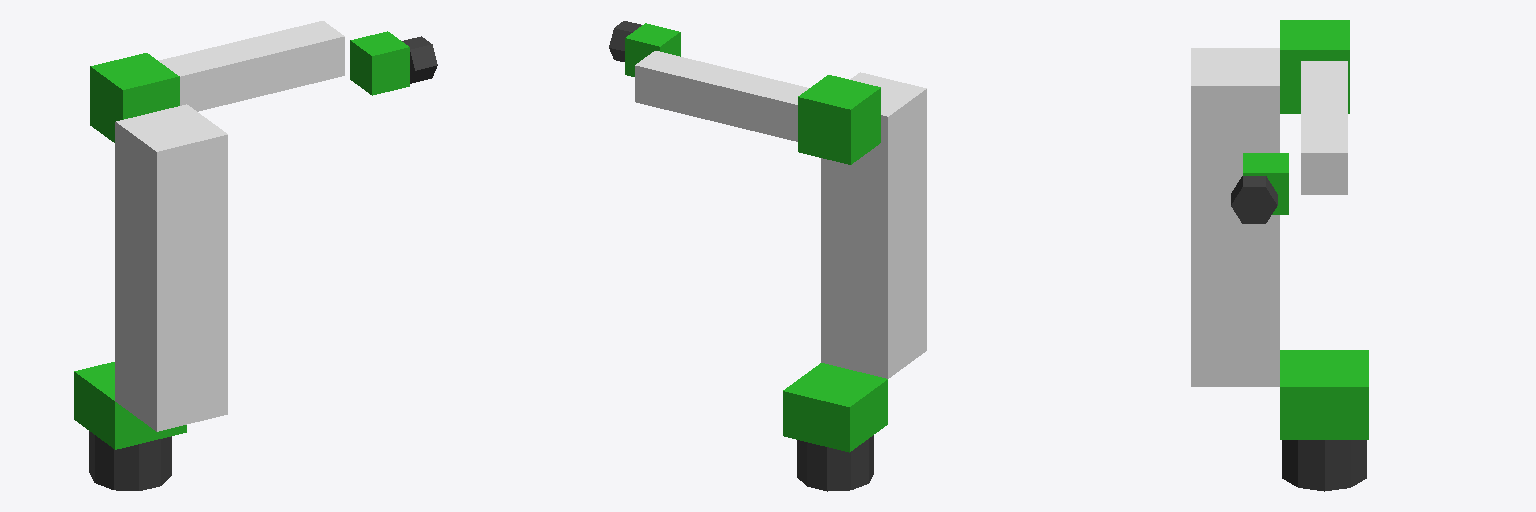
robot.urdf — crx-10:
<?xml version="1.0"?>
<robot name="crx-10">
  <link name="base_link">
    <inertial>
      <origin rpy = "0 0 0" xyz = "0 0 0" />
      <mass value = "0.0001" />
      <inertia ixx = "0.0001" ixy = "0" ixz = "0" iyy = "0.0001" iyz = "0" izz = "0.0001" />
    </inertial>
  </link>

  <joint name="base_stand" type="fixed" >
    <parent link = "base_link" />
    <child link = "stand" />
    <origin rpy = "0 0 0" xyz = "0.000 0.000 0.000" />
  </joint>
  <link name="stand">
    <contact>
      <lateral_friction value = "100" />
    </contact>
    <inertial>
      <origin rpy = "0 0 0" xyz = "0.000 0.000 0.06125" />
        <mass value = "5000" />
        <inertia ixx = "54.5" ixy = "0" ixz = "0" iyy = "54.5" iyz = "0" izz = "76.6" />
    </inertial>
    <visual>
      <origin rpy="0 0 0" xyz="0 0 0.000"/>
      <geometry>
        <!-- <cylinder radius="0.095" length="0.1225"/> -->
        <mesh filename="package://crx10_description/mesh/stl/stand.stl"/>
      </geometry>      
      <material name="Black">
        <color rgba="0.3 0.3 0.3 1" />
      </material>
    </visual>
    <collision>
      <origin rpy = "0 0 0" xyz = "0.000 0.000 0.000" />
      <geometry>
        <!-- <cylinder radius="0.095" length="0.1225"/> -->
        <mesh filename="package://crx10_description/mesh/stl/stand.stl"/>
      </geometry>
    </collision>
  </link>

  <joint name="stand_arm1" type="revolute" >
    <parent link = "stand" />
    <child link = "arm1" />
    <origin rpt = "0 0 0" xyz = "0 0 0.1225" />
    <axis xyz = "0 0 1" />
    <limit effort="10000.0" lower="-3.315" upper="3.315" velocity="2.09"/>
  </joint>
  <link name="arm1">
    <inertial>
      <origin rpy = "0 0 0" xyz = "0.000 0.000 0.06125" />
        <mass value = "7.5" />
        <inertia ixx = "0.066441" ixy = "0" ixz = "0" iyy = "0.075957" iyz = "0" izz = "0.059516" />
    </inertial>
    <visual>
      <origin rpy="0 0 0" xyz="0 0.000 0.000"/>
      <geometry>
        <!-- <box size="0.190 0.190 0.1225"/> -->
        <mesh filename="package://crx10_description/mesh/stl/arm1.stl"/>
      </geometry>
      <material name="Green">
        <color rgba="0.2 0.8 0.2 1" />
      </material>
    </visual>
    <collision>
      <origin rpy = "0 0 0" xyz = "0.000 0.000 0.000" />
      <geometry>
        <!-- <box size = "0.190 0.190 0.1225" /> -->
        <mesh filename="package://crx10_description/mesh/stl/arm1.stl"/>
      </geometry>
    </collision>
  </link>

  <joint name="arm1_arm2" type="revolute" >
    <parent link = "arm1" />
    <child link = "arm2" />
    <!-- <origin rpy = "-1.57075 0 -1.57075" xyz = "0.000 -0.190 0.000" /> -->
    <origin rpy = "0 -1.5707963267948966 -1.5707963267948966" xyz = "0.000 -0.095 0.1225" />
    <axis xyz = "0 0 1" />
    <limit effort="10000.0" lower="-3.14" upper="3.14" velocity="2.09"/>
  </joint>
  <link name="arm2">
    <inertial>
      <!-- 0.355 - 0.06125 = 0.29375 -->
      <origin rpy = "0 0 0" xyz = "0.000 0.000 -0.000" />
        <mass value = "10" />
        <inertia ixx = "0.17333" ixy = "0" ixz = "0" iyy = "0.18008" iyz = "0" izz = "0.03075" />
    </inertial>
    <visual>
      <origin rpy="0 0 0" xyz="0.000 0.000 -0.000"/>
      <geometry>
        <!-- <box size="0.710 0.190 0.190"/> -->
        <mesh filename="package://crx10_description/mesh/stl/arm2.stl"/>
      </geometry>
      <material name="Gray">
        <color rgba="0.95 0.95 0.95 1" />
      </material>
    </visual>
    <collision>
      <origin rpy = "0 0 0" xyz = "0.000 0.000 -0.000" />
      <geometry>
        <!-- <box size="0.710 0.190 0.190"/> -->
        <mesh filename="package://crx10_description/mesh/stl/arm2.stl"/>
      </geometry>
    </collision>
  </link>

  <joint name="arm2_arm3" type="revolute" >
    <parent link = "arm2" />
    <child link = "arm3" />
    <origin rpy = "3.1415927 0 0" xyz = "0.710 0.000 0.000" />
    <axis xyz = "0 0 1" />
    <limit effort="10000.0" lower="-4.975" upper="4.975" velocity="3.15"/>
  </joint>
  <link name="arm3">
    <inertial>
      <origin rpy = "0 0 0" xyz = "0.000 0.000 0.000" />
        <mass value = "7.5" />
        <inertia ixx = "0.044381" ixy = "0" ixz = "0" iyy = "0.044381" iyz = "0" izz = "0.01250" />
    </inertial>
    <visual>
      <origin rpy="0 0 0" xyz="0 0 0.000"/>
      <geometry>
        <!-- <box size="0.150 0.150 0.150"/> -->
        <mesh filename="package://crx10_description/mesh/stl/arm3.stl"/>
      </geometry>
      <material name="Green">
      </material>
    </visual>
    <collision>
      <origin rpy = "0 0 0" xyz = "0.000 0.000 0.000" />
      <geometry>
        <!-- <box size="0.150 0.150 0.150"/> -->
        <mesh filename="package://crx10_description/mesh/stl/arm3.stl"/>
      </geometry>
    </collision>
  </link>


  <joint name="arm3_arm4" type="revolute" >
    <parent link = "arm3" />
    <child link = "arm4" />
    <axis xyz="0 0 1"/>
    <origin rpy = "1.5707963267948966 0 -3.1415927" xyz = "0.000 -0.075 -0.095" />
    <!-- <origin rpy = "0 -1.5707963267948966 -1.5707963267948966" xyz = "0.000 0.075 0.000" /> -->
    <limit effort="10000.0" lower="-3.315" upper="3.315" velocity="3.14"/>
  </joint>
  <link name="arm4">
    <inertial>
      <origin rpy = "0 0 0" xyz = "0.000 0.000 0.270" />
        <mass value = "5" />
        <inertia ixx = "0.014833" ixy = "0" ixz = "0" iyy = "0.014833" iyz = "0" izz = "0.0083333" />
    </inertial>
    <visual>
      <origin rpy="0 0 0" xyz="0 0 0.000"/>
      <geometry>
        <!-- <box size="0.150 0.150 0.540"/> -->
        <mesh filename="package://crx10_description/mesh/stl/arm4.stl"/>
      </geometry>
      <material name="Gray">
      </material>
    </visual>
    <collision>
      <origin rpy = "0 0 0" xyz = "0.000 0.000 0.000" />
      <geometry>
        <!-- <box size = "0.150 0.150 0.540" /> -->
        <mesh filename="package://crx10_description/mesh/stl/arm4.stl"/>
      </geometry>
    </collision>
  </link>

  <joint name="arm4_arm5" type="revolute" >
    <parent link = "arm4" />
    <child link = "arm5" />
    <axis xyz = "0 0 1" />
    <origin rpy = "-1.5707963267948966 -1.5707963267948966 0" xyz = "0.000 0.075 -0.465" />
    <limit effort="10000.0" lower="-3.14" upper="3.14" velocity="3.14"/>
  </joint>
  <link name="arm5">
    <inertial>
      <origin rpy = "0 0 0" xyz = "0.000 0.000 -0.050" />
        <mass value = "2.5" />
        <inertia ixx = "0.0020833" ixy = "0" ixz = "0" iyy = "0.0015208" iyz = "0" izz = "0.00093750" />
    </inertial>
    <visual>
      <origin rpy="0 0 0" xyz="0.000 0.000 -0.000"/>
      <geometry>
        <!-- <box size="0.100 0.100 0.100"/> -->
        <mesh filename="package://crx10_description/mesh/stl/arm5.stl"/>
      </geometry>
      <material name="Green">
      </material>
    </visual>
    <collision>
      <origin rpy = "0 0 0" xyz = "0.000 0.000 -0.000" />
      <geometry>
        <!-- <box size = "0.100 0.100 0.100" /> -->
        <mesh filename="package://crx10_description/mesh/stl/arm5.stl"/>
      </geometry>
    </collision>
  </link>

  <joint name="arm5_arm6" type="revolute" >
    <parent link = "arm5" />
    <child link = "arm6" />
    <origin rpy = "1.5707963267948966 0 1.5707963267948966" xyz = "-0.100 0.000 0.075" />
    <axis xyz="0 0 1"/>
    <limit effort="10000.0" lower="-3.925" upper="3.925" velocity="3.14"/>
  </joint>
  <link name="arm6">
    <inertial>
      <origin rpy = "0 0 0" xyz = "0.000 0.000 0.030" />
        <mass value = "0.5" />
        <inertia ixx = "0.000032292" ixy = "0" ixz = "0" iyy = "0.000032292" iyz = "0" izz = "0.00005625" />
    </inertial>
    <visual>
      <origin rpy="0 0 0" xyz="0 0 0"/>
      <geometry>
        <!-- <cylinder radius="0.050" length="0.060"/> -->
        <mesh filename="package://crx10_description/mesh/stl/arm6.stl"/>
      </geometry>
      <material name="Black">
      </material>
    </visual>
    <collision>
      <origin rpy = "0 0 0" xyz="0 0 0"/>
      <geometry>
        <!-- <cylinder radius="0.015" length="0.060"/> -->
        <mesh filename="package://crx10_description/mesh/stl/arm6.stl"/>
      </geometry>
    </collision>
  </link>
  
  <joint name="arm6_ee" type="fixed" >
    <parent link = "arm6" />
    <child link = "ee_link" />
    <origin rpy = "0 0 0" xyz = "0.000 0.000 -0.060" />
  </joint>
  <link name="ee_link">
    <inertial>
      <origin rpy = "0 0 0" xyz = "0.000 0.000 0.030" />
        <mass value = "0.5" />
        <inertia ixx = "0.000032292" ixy = "0" ixz = "0" iyy = "0.000032292" iyz = "0" izz = "0.00005625" />
    </inertial>
    <visual>
      <origin rpy="0 0 0" xyz="0 0 0"/>
      <geometry>
        <!-- <cylinder radius="0.000" length="0.000"/> -->
        <mesh filename="package://crx10_description/mesh/stl/tool.stl"/>
      </geometry>
      <material name="Blue">
        <color rgba="0.15 0.15 0.85 1" />
      </material>
    </visual>
    <collision>
      <origin rpy = "0 0 0" xyz="0 0 0"/>
      <geometry>
        <!-- <cylinder radius="0.000" length="0.000"/> -->
        <mesh filename="package://crx10_description/mesh/stl/tool.stl"/>
      </geometry>
    </collision>
  </link>

  <joint name="ee_tcp" type="fixed" >
    <parent link = "ee_link" />
    <child link = "tcp" />
    <origin rpy = "0 3.1415927 0" xyz = "0.000 0.150 -0.209" />
  </joint>
  <link name="tcp">
    <inertial>
      <origin rpy = "0 0 0" xyz = "0.000 0.000 0.030" />
        <mass value = "0.5" />
        <inertia ixx = "0.000032292" ixy = "0" ixz = "0" iyy = "0.000032292" iyz = "0" izz = "0.00005625" />
    </inertial>
    <!-- <visual>
      <origin rpy="0 0 0" xyz="0 0 0"/>
      <geometry>
        <cylinder radius="0.000" length="0.000"/>
      </geometry>
      <material name="Blue">
        <color rgba="0.15 0.15 0.75" />
      </material>
    </visual>
    <collision>
      <origin rpy = "0 0 0" xyz="0 0 0"/>
      <geometry>
        <cylinder radius="0.000" length="0.000"/>
      </geometry>
    </collision> -->
  </link>

  <!-- <link name="gripper1">
    <inertial>
      <origin rpy = "0 0 0" xyz = "0.000 0.000 0.005" />
        <mass value = "0.020" />
        <inertia ixx = "0.01" ixy = "0" ixz = "0" iyy = "0.01" iyz = "0" izz = "0.01" />
    </inertial>
    <visual>
      <origin rpy="0 0 0" xyz="0 0 0.005"/>
      <geometry>
        <box size="0.04 0.01 0.01"/>
      </geometry>
      <material name="Black">
      </material>
    </visual>
    <collision>
      <origin rpy = "0 0 0" xyz = "0.000 0.000 0.005" />
      <geometry>
        <box size = "0.04 0.01 0.010" />
      </geometry>
    </collision>
  </link>
  <joint name="arm6_gripper1" type="fixed" >
    <parent link = "arm6" />
    <child link = "gripper1" />
    <origin rpy = "0 0 0" xyz = "0.000 0.000 0.010" />
  </joint>
  <link name="gripper2">
    <contact>
      <lateral_friction value = "10" />
    </contact>
    <inertial>
      <origin rpy = "0 0 0" xyz = "0.000 0.000 0.0075" />
        <mass value = "0.003" />
        <inertia ixx = "0.01" ixy = "0" ixz = "0" iyy = "0.005" iyz = "0" izz = "0.005" />
    </inertial>
    <visual>
      <origin rpy="0 0 0" xyz="0 0 0.0075"/>
      <geometry>
        <box size="0.005 0.01 0.015"/>
      </geometry>
      <material name="Black">
      </material>
    </visual>
    <collision>
      <origin rpy = "0 0 0" xyz = "0.000 0.000 0.0075" />
      <geometry>
        <box size = "0.005 0.010 0.015" />
      </geometry>
    </collision>
  </link>
  <joint name="gripper1_gripper2" type="prismatic" >
    <parent link = "gripper1" />
    <child link = "gripper2" />
    <origin rpy = "0 0 0" xyz = "-0.0175 0.000 0.01" />
    <limit effort="10000.0" lower="0" upper="0.015" velocity="0.5"/>
  </joint>
  <link name="gripper3">
    <contact>
      <lateral_friction value = "10" />
    </contact>
    <inertial>
      <origin rpy = "0 0 0" xyz = "0.000 0.000 0.0075" />
        <mass value = "0.003" />
        <inertia ixx = "0.01" ixy = "0" ixz = "0" iyy = "0.005" iyz = "0" izz = "0.005" />
    </inertial>
    <visual>
      <origin rpy="0 0 0" xyz="0 0 0.0075"/>
      <geometry>
        <box size="0.005 0.01 0.015"/>
      </geometry>
      <material name="Black">
      </material>
    </visual>
    <collision>
      <origin rpy = "0 0 0" xyz = "0.000 0.000 0.0075" />
      <geometry>
        <box size = "0.005 0.010 0.015" />
      </geometry>
    </collision>
  </link>
  <joint name="gripper1_gripper3" type="prismatic" >
    <parent link = "gripper1" />
    <child link = "gripper3" />
    <origin rpy = "0 0 0" xyz = "0.0175 0.000 0.01" />
    <limit effort="10000.0" lower="-0.015" upper="0" velocity="0.5"/>
  </joint> -->
</robot>

--- Facts derived from the render (not from the file) ---
Views: 3 orthographic renders of the robot side by side, from view 1: azimuth 30°, elevation 25°; view 2: azimuth 150°, elevation 25°; view 3: azimuth 270°, elevation 25°.
Robot: crx-10 — 10 links, 9 joints (6 revolute, 3 fixed); root link base_link; default pose: every joint at zero.
Links seen in each view (by area): view 1: arm2, arm4, arm3, arm1, stand, arm5, arm6; view 2: arm2, arm4, arm1, arm3, stand, arm5, arm6; view 3: arm2, arm1, arm4, arm3, stand, arm6, arm5.
Boxes of the visible links, x1,y1,x2,y2 form: arm2: (115, 104, 227, 431); arm4: (159, 21, 344, 111); arm3: (90, 53, 179, 142); arm1: (74, 362, 186, 449); stand: (89, 431, 171, 490); arm5: (350, 31, 409, 95); arm6: (402, 36, 437, 83); arm2: (821, 72, 926, 378); arm4: (635, 51, 808, 141); arm1: (783, 363, 887, 452); arm3: (798, 75, 880, 164); stand: (797, 435, 873, 491); arm5: (625, 23, 680, 76); arm6: (609, 21, 641, 61); arm2: (1191, 48, 1279, 386); arm1: (1280, 350, 1368, 439); arm4: (1301, 61, 1347, 194); arm3: (1280, 20, 1349, 113); stand: (1282, 440, 1366, 491); arm6: (1231, 176, 1277, 223); arm5: (1243, 153, 1288, 214).
Size in the robot's own frame: 0.795 by 0.38 by 1.03 metres.
7 mesh visuals loaded from 8 distinct referenced files (7 binary STL); not drawn: 1 (reference not matched to a file when rendering).